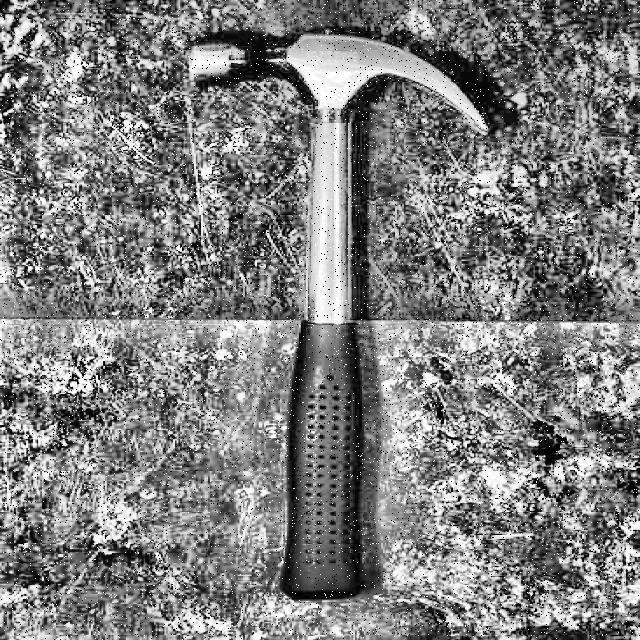hammer: (188, 33, 478, 604)
